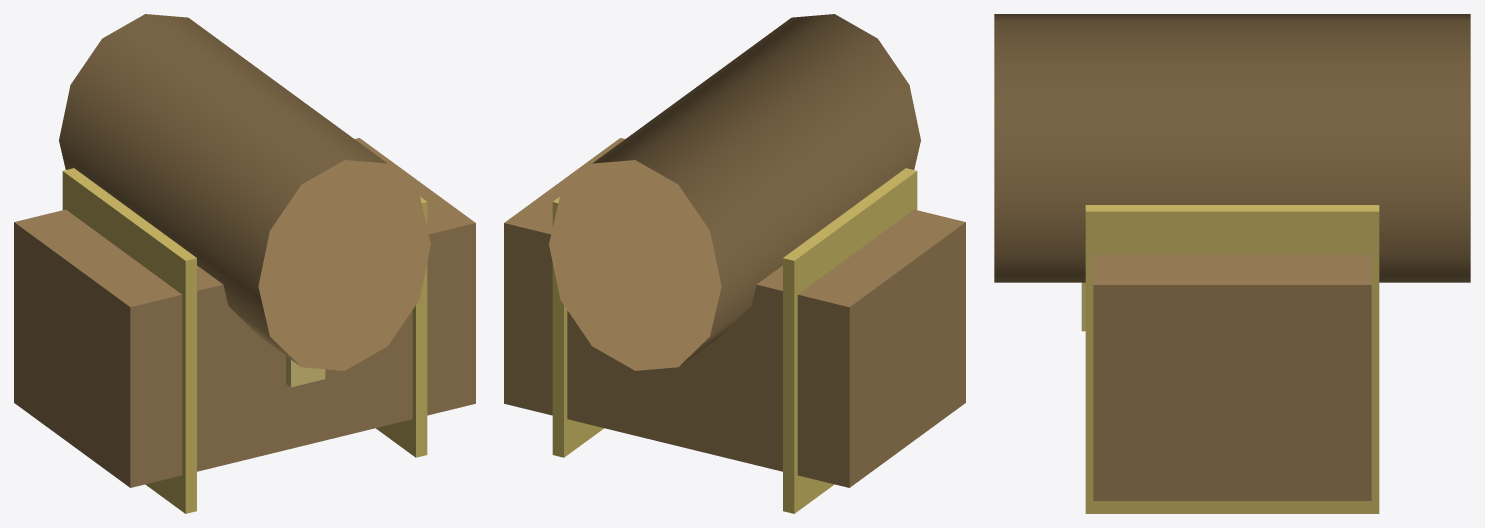
The model's file is env-med-chest.glb.
The picture shows the model from 3 angles, left to right: view 1: azimuth 30°, elevation 25°; view 2: azimuth 150°, elevation 25°; view 3: azimuth 270°, elevation 25°; orthographic projection. The views are drawn at different scales.
Size of the model in its own units: 0.6 by 0.585 by 0.6.
